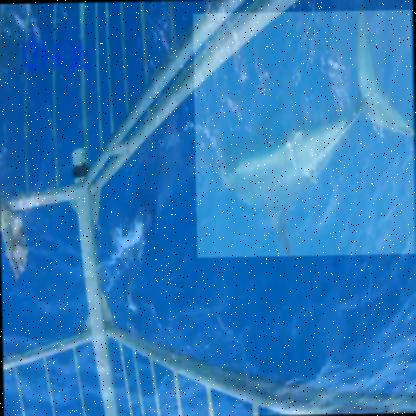mako-shark: (192, 8, 416, 258)
